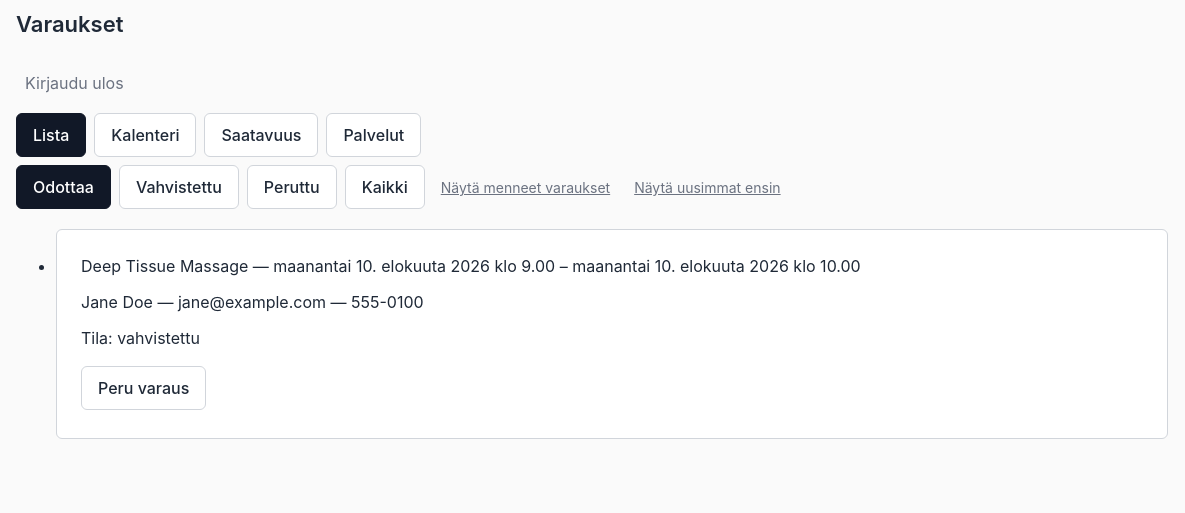
Scenario: AdminDashboard › cancels a confirmed booking in place without refetching the list, using the two-step confirm
This screenshot has width=1185, height=513.
Expected: the list item with test id "booking-booking-2" is shown, [56,229,1168,439]
Click the button "Peru varaus" at (144, 388), box [81,366,206,410]
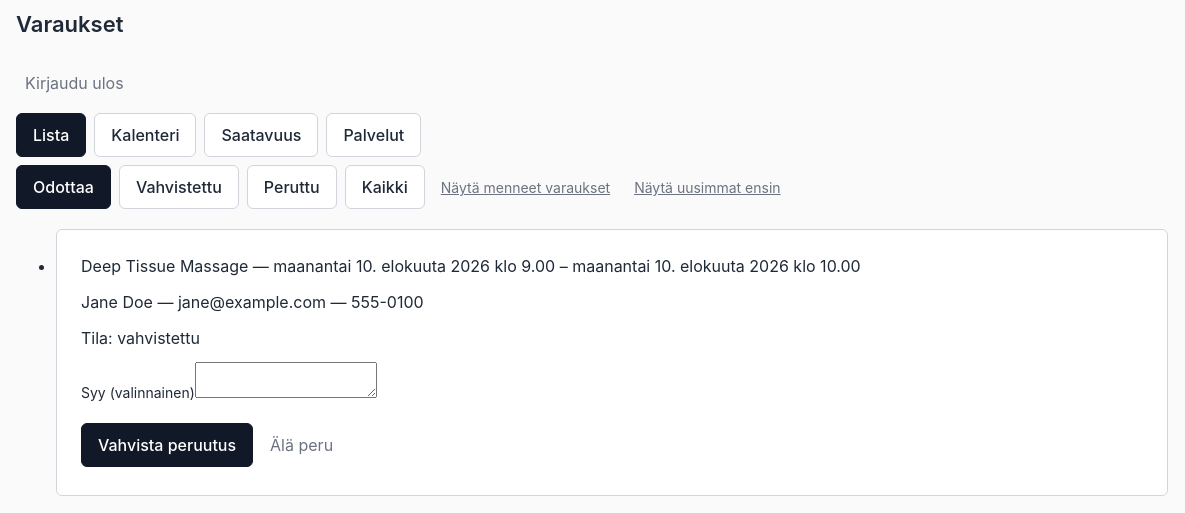
Now the button "Älä peru" is shown, box [261,423,342,467]
Click the button "Vahvista peruutus" at (167, 445), box [81,423,253,467]
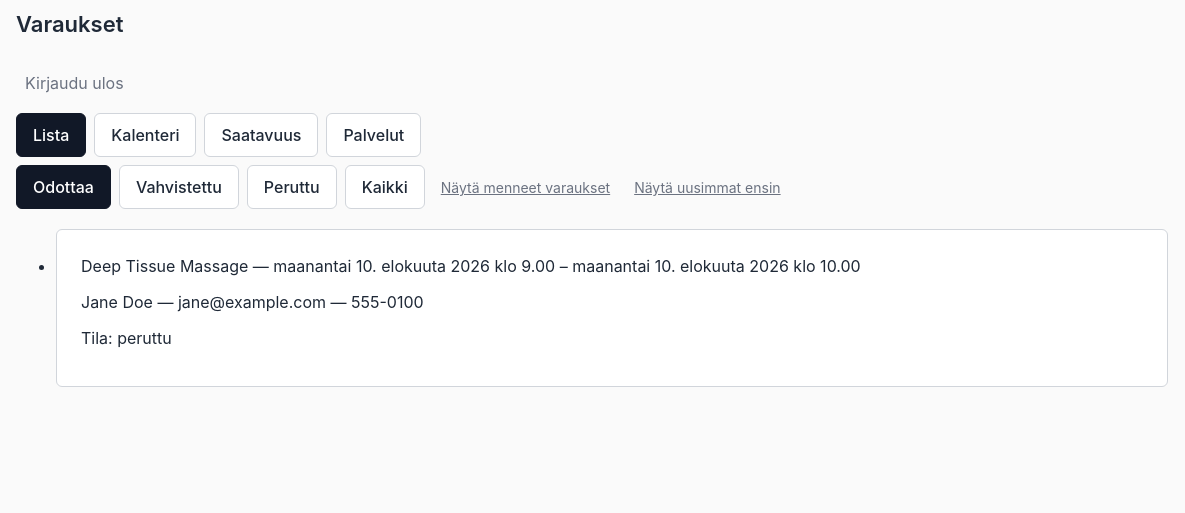
Now the list item with test id "booking-booking-2" shows "Tila: peruttu", box [56,229,1168,387]
